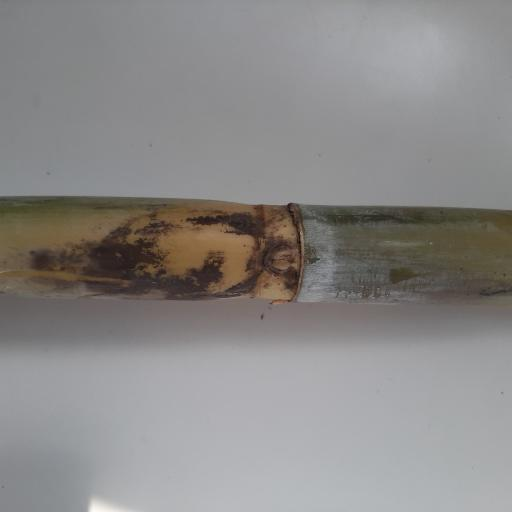Bud: (261, 242, 296, 276)
